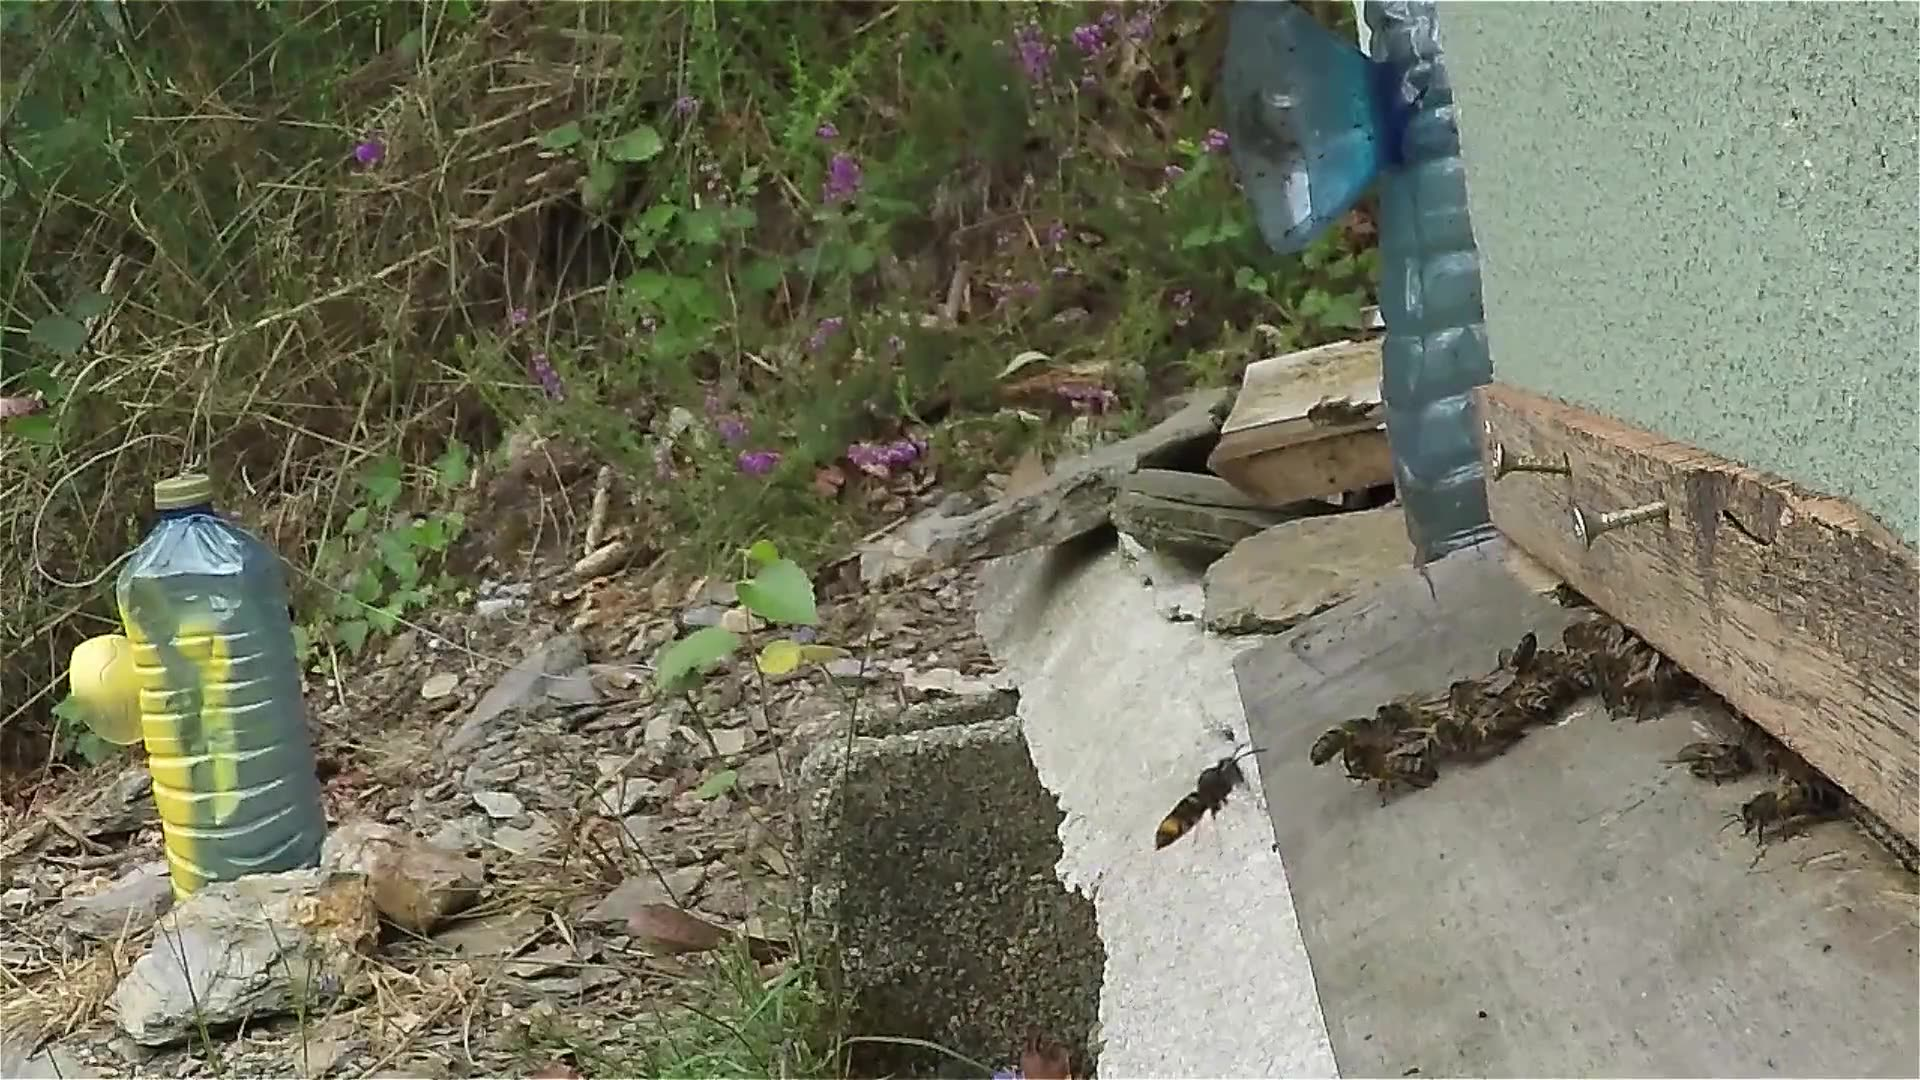bee: (1472, 622, 1698, 738), (1309, 680, 1474, 804), (1721, 774, 1853, 837), (1680, 727, 1774, 794)
hornet: (1143, 749, 1265, 855)
